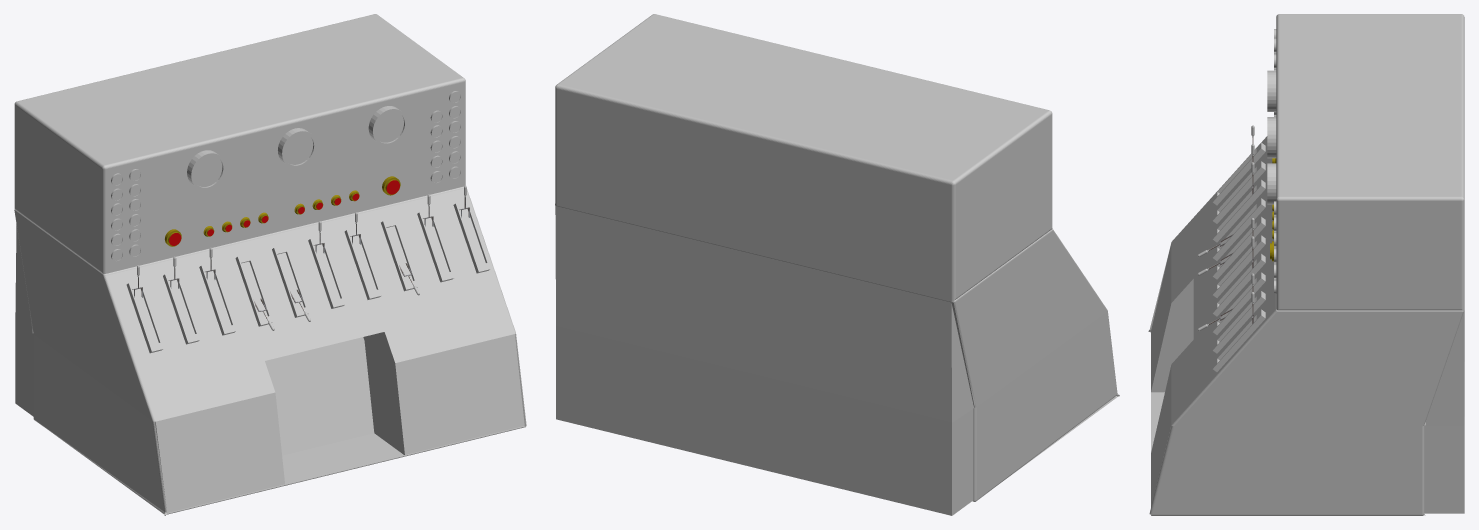
Rendered from industria console.fbx.
3 views of the same model, side by side, from view 1: azimuth 30°, elevation 25°; view 2: azimuth 150°, elevation 25°; view 3: azimuth 270°, elevation 25° (orthographic). The views are drawn at different scales.
Visible parts, largest first — view 1: Cube, Cube.001, Cylinder.035, Cylinder.012, Cylinder.034, Cube.011, Cube.005, Cube.008, Cube.003, Cube.002, Cube.010, Cube.006 (+3 smaller); view 2: Cube, Cube.001; view 3: Cube, Cube.001, Cube.005, Cube.010, Cube.006, Cube.011, Cube.008, Cube.003, Cube.002, Cube.004, Cube.009, Cube.007 (+3 smaller).
Boxes of the visible parts, box(x1,y1,x2,y2) form: Cube: box(14, 186, 526, 515); Cube.001: box(14, 14, 465, 273); Cylinder.035: box(187, 150, 225, 189); Cylinder.012: box(368, 106, 406, 145); Cylinder.034: box(278, 128, 316, 167); Cube.011: box(417, 209, 454, 282); Cube.005: box(199, 262, 236, 335); Cube.008: box(308, 236, 345, 308); Cube.003: box(163, 271, 199, 344); Cube.002: box(126, 280, 163, 353); Cube.010: box(453, 200, 490, 273); Cube.006: box(344, 227, 381, 299); Cube: box(555, 204, 1119, 515); Cube.001: box(555, 14, 1052, 301); Cube: box(1148, 136, 1464, 515); Cube.001: box(1276, 14, 1464, 310); Cube.005: box(1212, 179, 1265, 242); Cube.010: box(1212, 309, 1265, 371); Cube.006: box(1212, 253, 1265, 316); Cube.011: box(1212, 291, 1265, 353); Cube.008: box(1212, 235, 1265, 297); Cube.003: box(1212, 161, 1265, 223); Cube.002: box(1212, 142, 1265, 205); Cube.004: box(1212, 198, 1265, 260); Cube.009: box(1212, 216, 1265, 279); Cube.007: box(1212, 272, 1265, 334).
Size of what is drawn, in the model's own units: 200 by 160 by 144.
